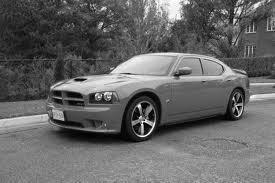car: (44, 51, 253, 144)
